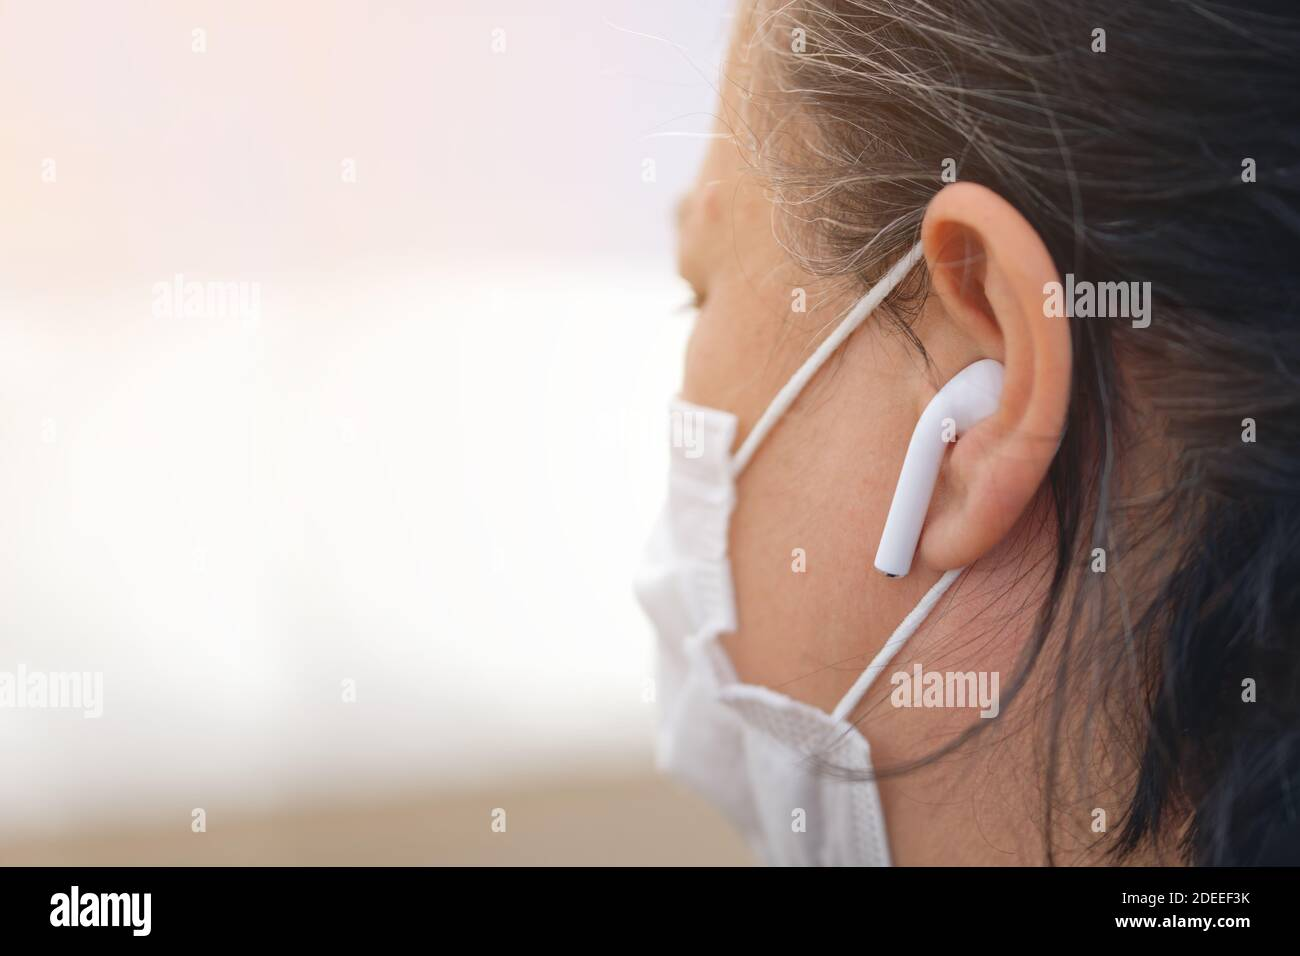earphone: (874, 182, 1073, 581)
